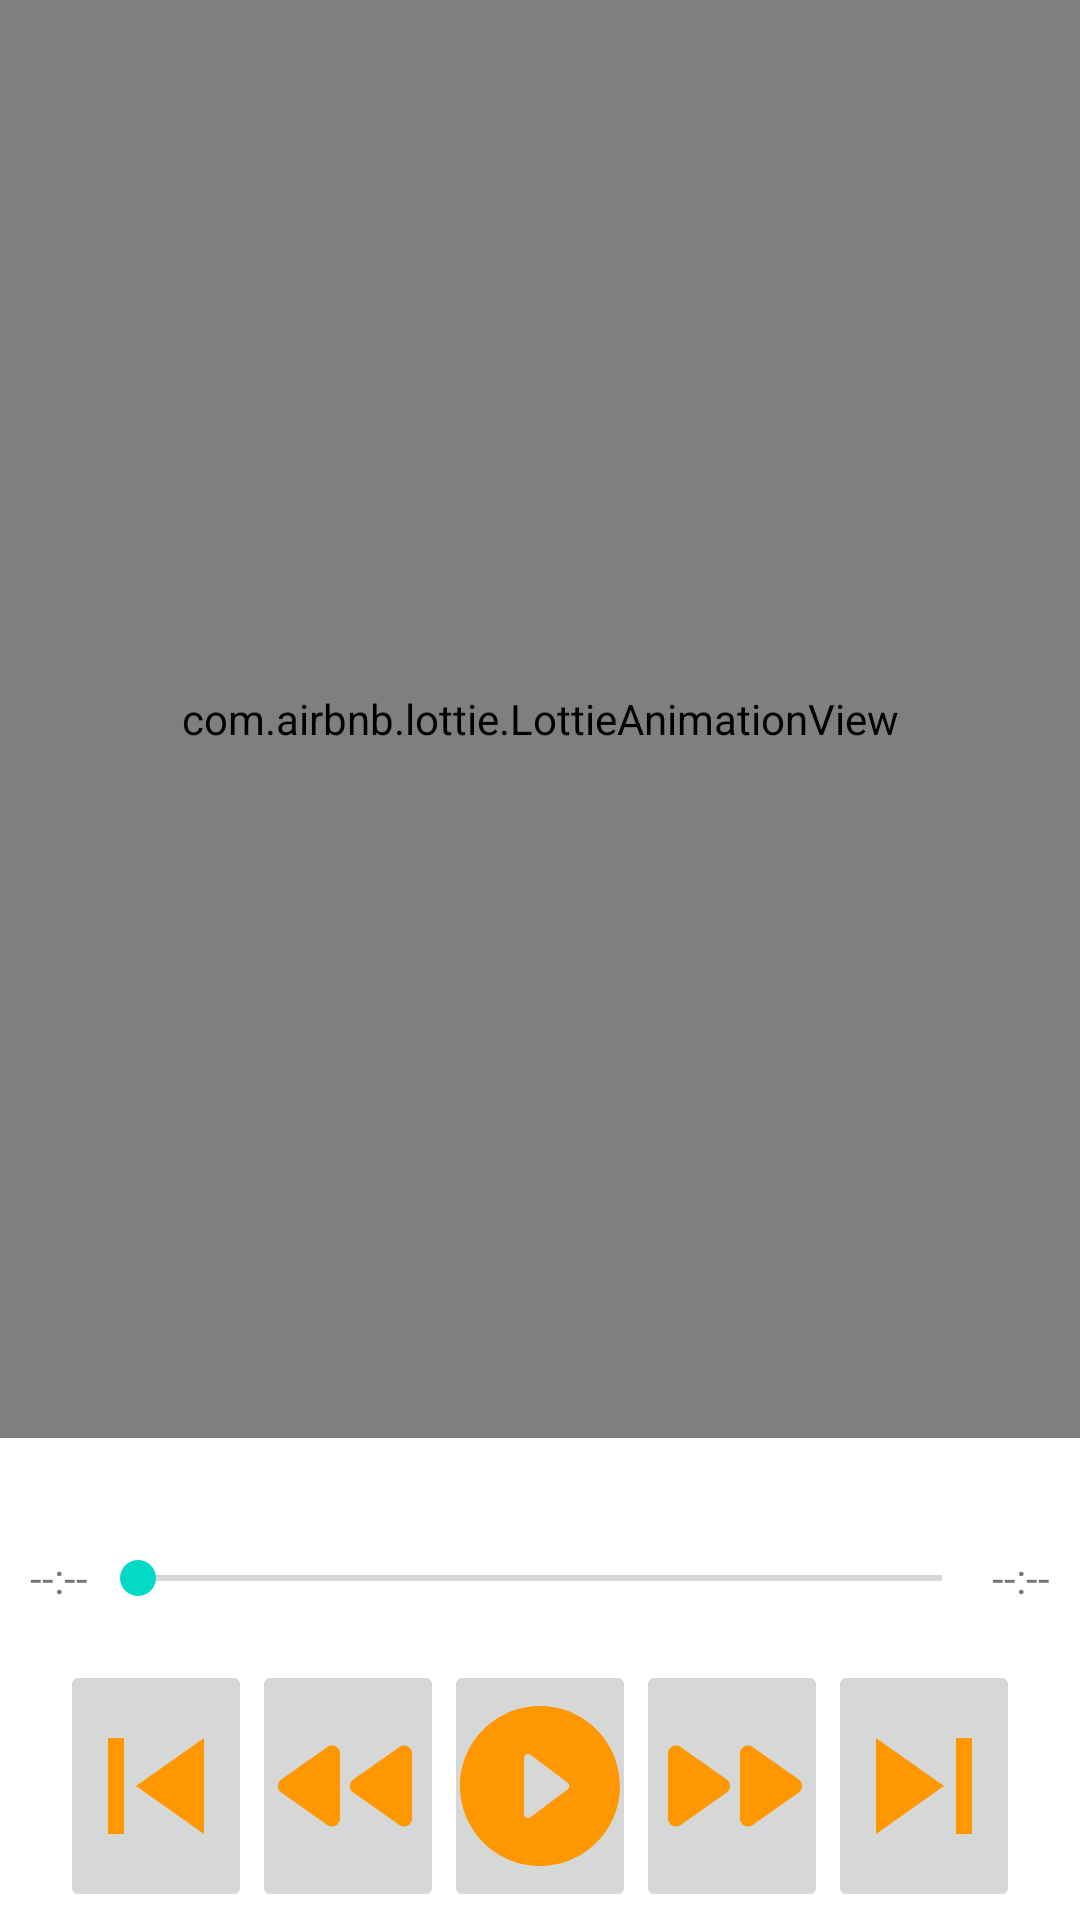

Screen size 1080 × 1920. Icon name, then its box in pixels as [x1,y1,x2,y2]:
fast forward: [648,1678,816,1894]
fast rewind: [264,1678,432,1894]
play circle: [456,1678,624,1894]
skip next: [840,1678,1008,1894]
skip previous: [72,1678,240,1894]
